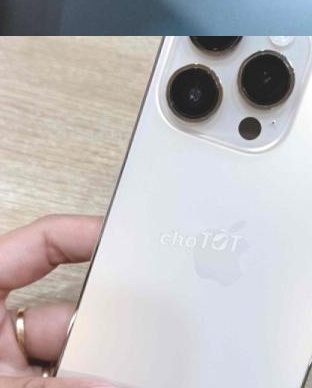scratch: (0, 0, 312, 15)
